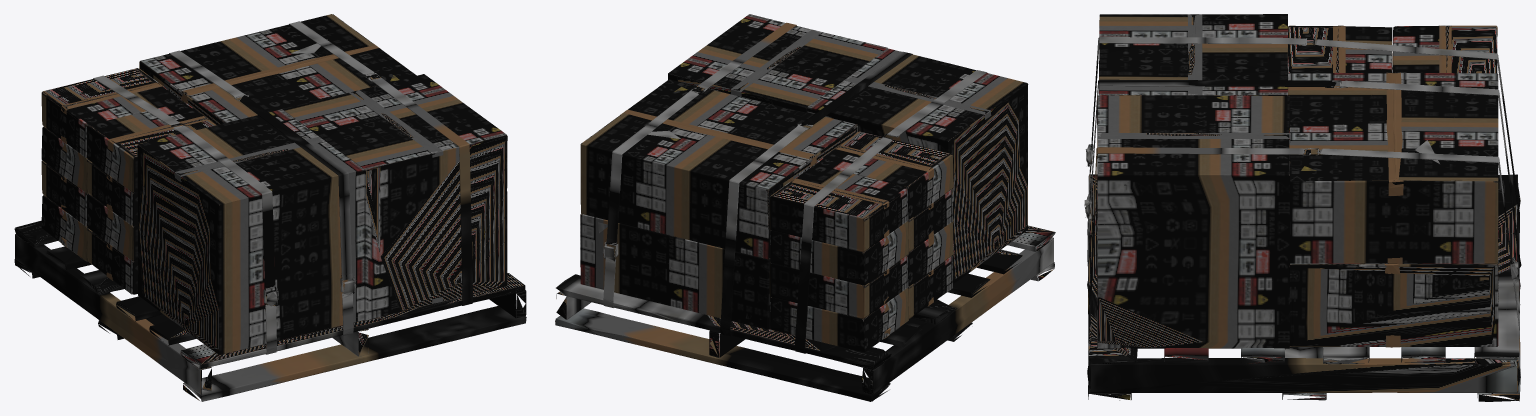
Rendered from pallet_assembly_brown_f05.glb.
3 renders of one model, left to right at view 1: azimuth 30°, elevation 25°; view 2: azimuth 150°, elevation 25°; view 3: azimuth 270°, elevation 25°, orthographic. The views are drawn at different scales.
Parts seen in each view (by area): view 1: geometry_0; view 2: geometry_0; view 3: geometry_0.
Part boxes in pixels (x1=…): geometry_0: x1=14, y1=14, x2=526, y2=401; geometry_0: x1=555, y1=14, x2=1055, y2=401; geometry_0: x1=1084, y1=14, x2=1521, y2=401.
Bounding box in the file's own units: 0.42 × 0.2331 × 0.4176.
Materials: 1 (1 with a texture image).
